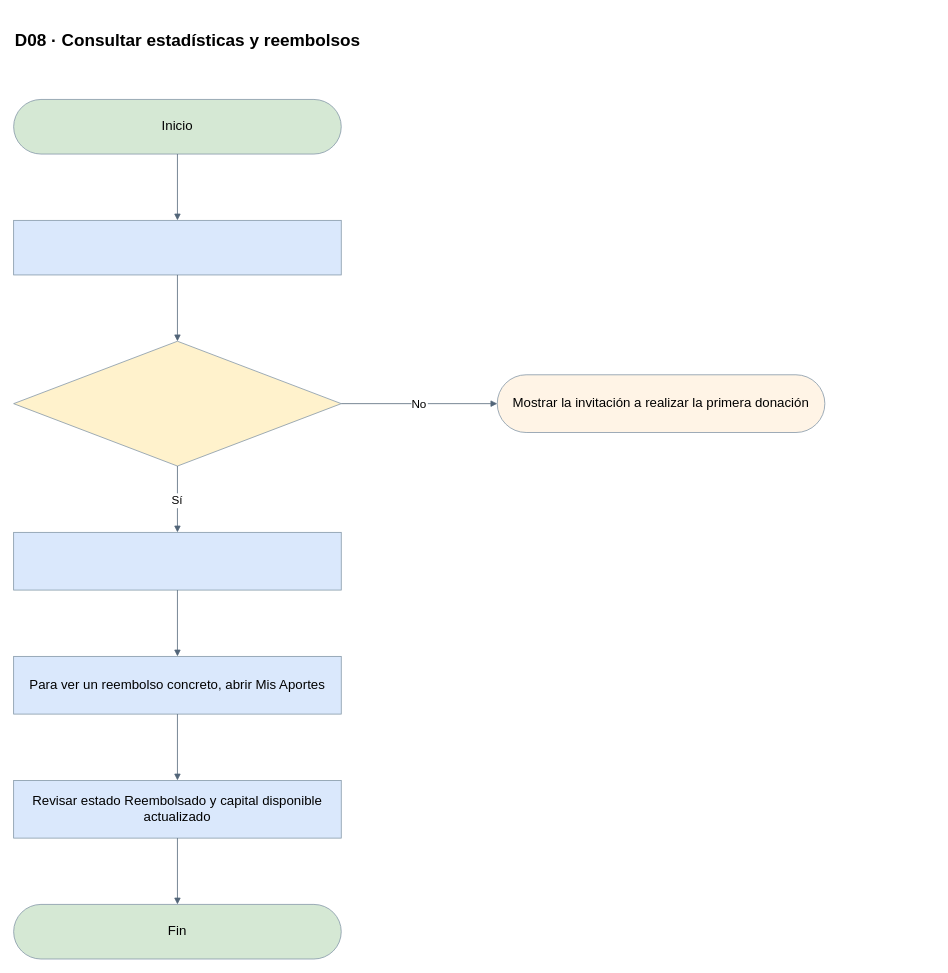
The diagram is 948 pixels wide and 973 high, and some of its shapes have lost their labels. The centre of each missing label's shape, as x and y in pixels:
"Abrir Rendimiento en Mi Panel" belongs at pixel 177 247.
"Consultar aporte promedio, monto reembolsado y evolución acumulada" belongs at pixel 177 561.
"¿Existen donaciones completadas?" belongs at pixel 177 403.
